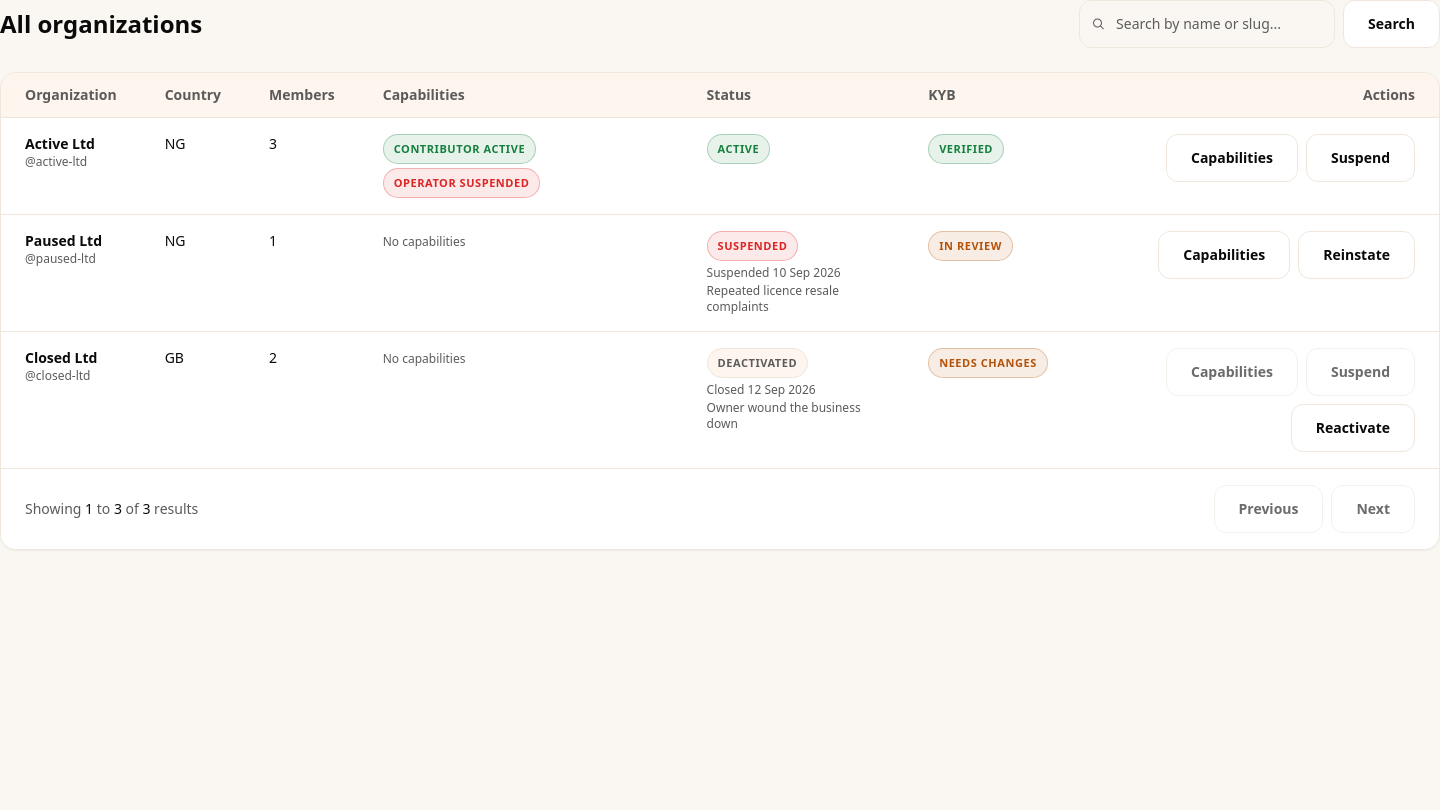
Test case: AdminOrganizationsList › shows the described error inside the dialog when reactivation fails
The width and height of the screenshot is (1440, 810).
Click the button "Reactivate" at (1353,428), box x1=1291 y1=404 x2=1415 y2=452
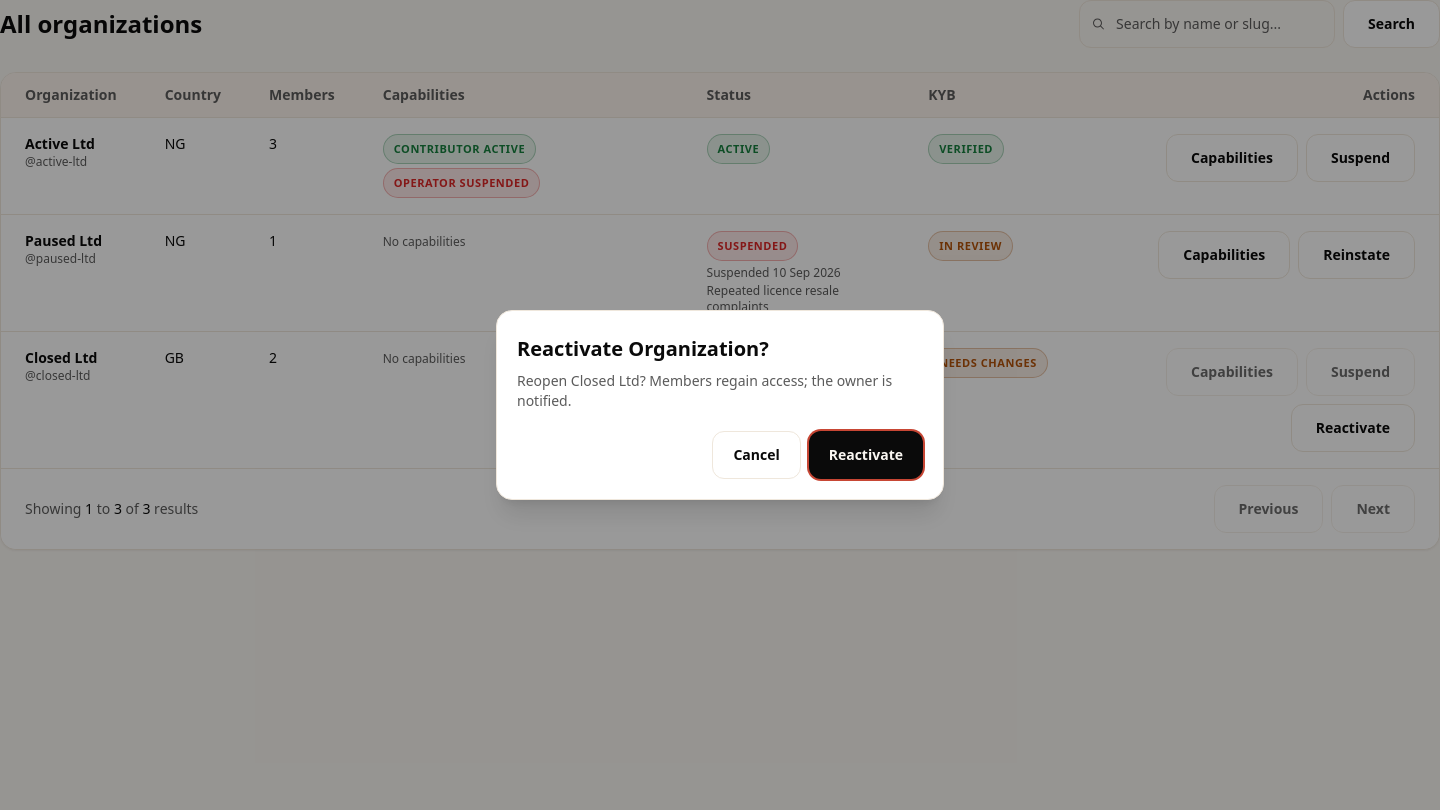
Click the button "Reactivate" at (866,455), box x1=809 y1=431 x2=923 y2=479
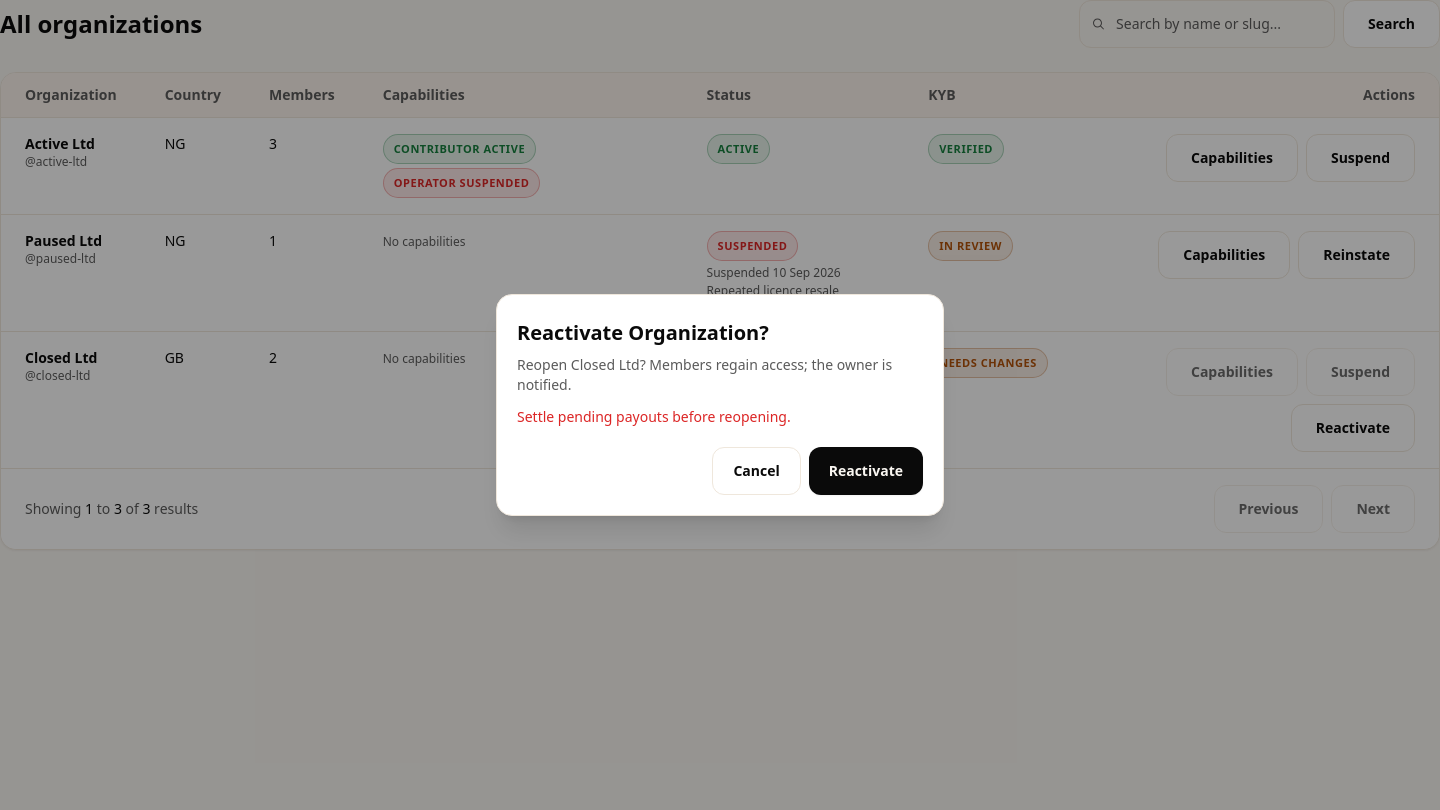
Expected: the text "Settle pending payouts before reopening." is shown, x1=517 y1=407 x2=791 y2=426
